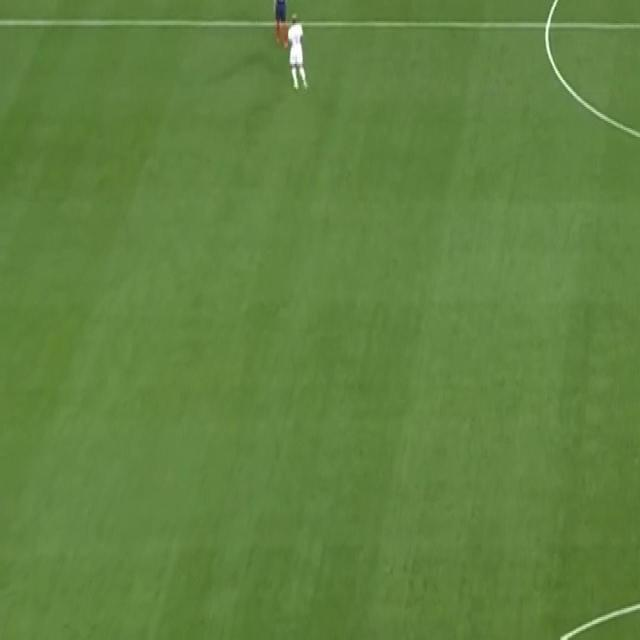player-white: (284, 10, 310, 98), (270, 0, 292, 55)
